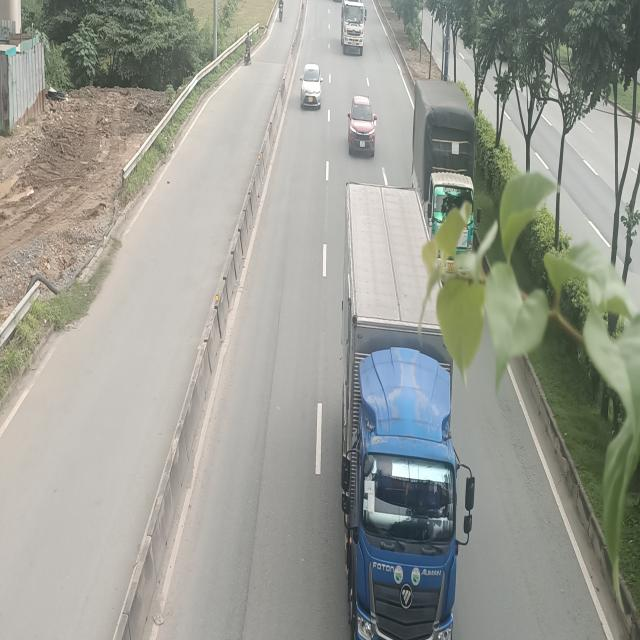car: (348, 97, 378, 158), (299, 64, 321, 108)
truck: (342, 180, 478, 640), (416, 77, 476, 271), (341, 0, 367, 53)
